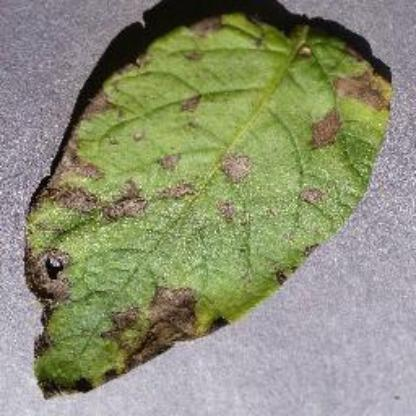Early-Blight: (22, 14, 400, 400)
